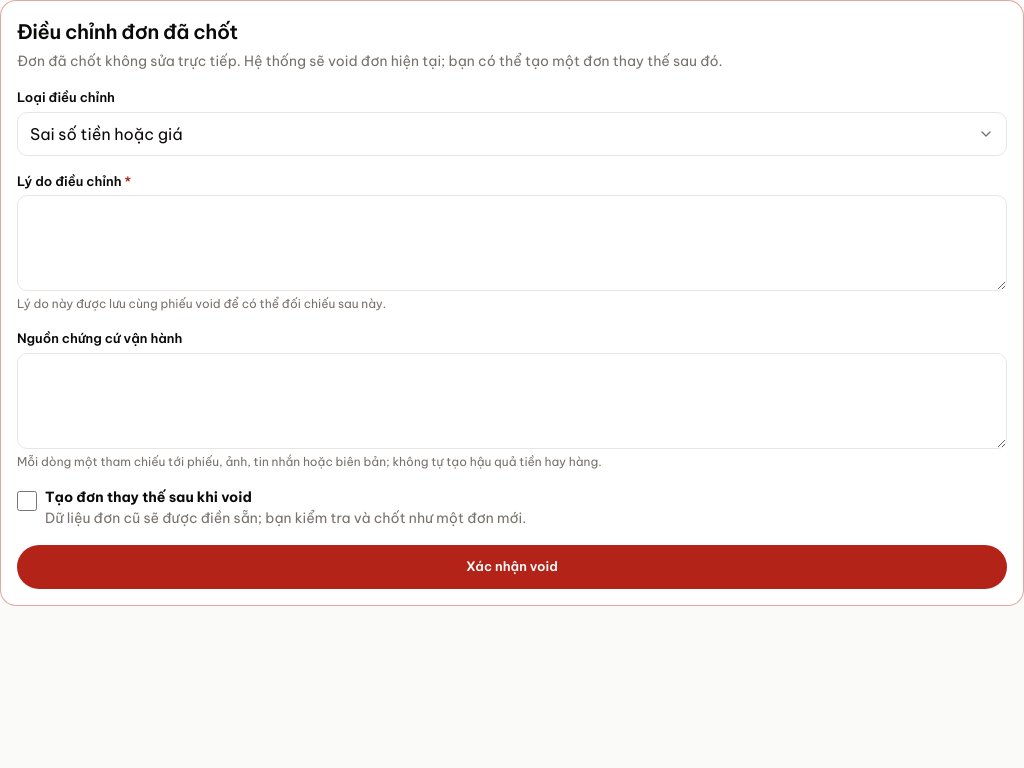
SaleCorrectionPanel › blocks a full debt void when some delivered goods remain with the customer
Click the dropdown named "Loại điều chỉnh". click: (106, 134)
box: [17,112,1007,156]
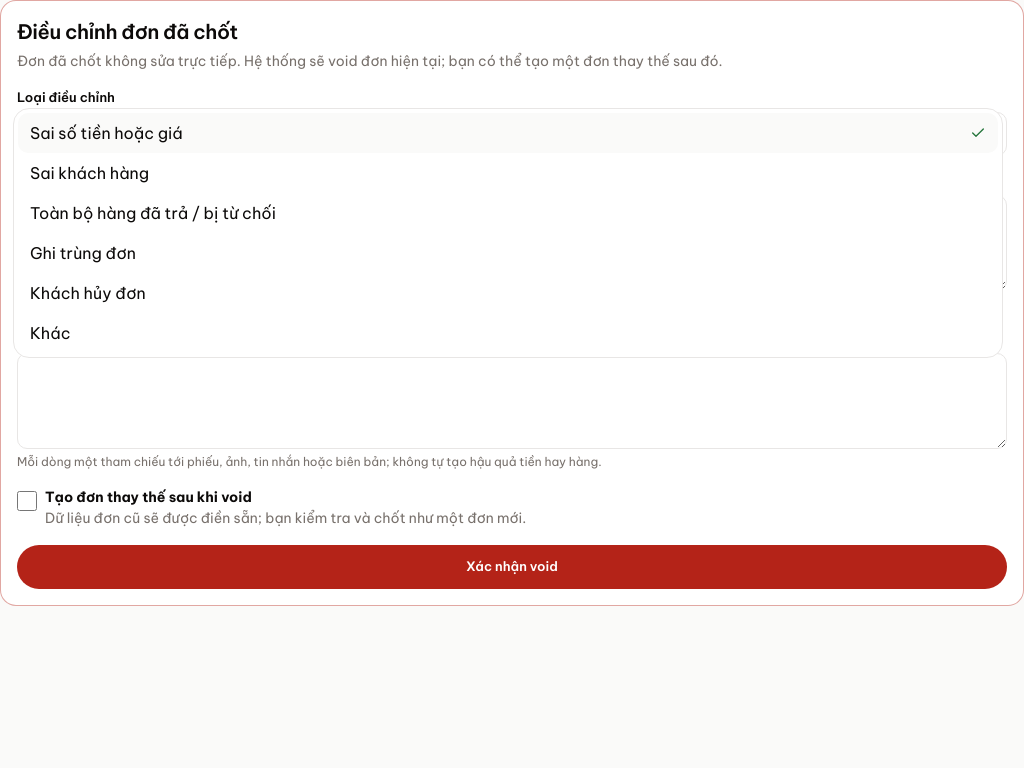
Click the option "Toàn bộ hàng đã trả / bị từ chối". click: (153, 212)
box: [30,202,276,222]
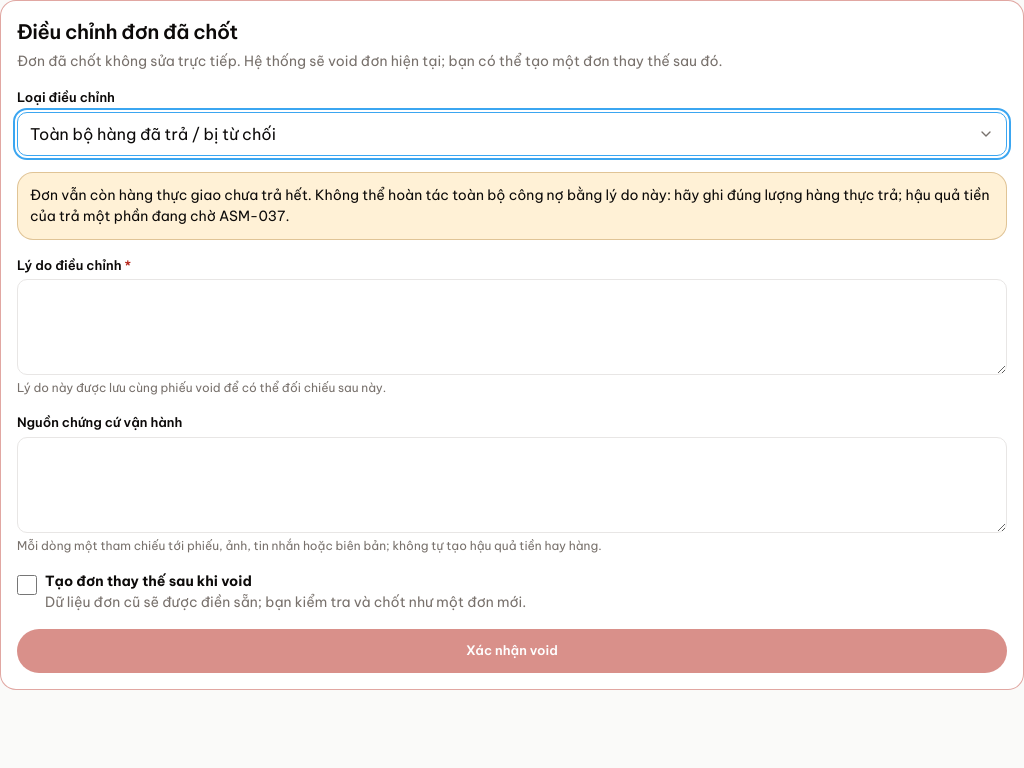
Result: the message shows "còn hàng thực giao chưa trả hết" at [30,186,990,224]
Result: the button "Xác nhận void" is disabled at [17,628,1007,672]
